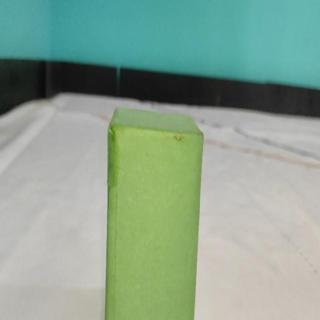greenbox: (105, 101, 205, 320)
